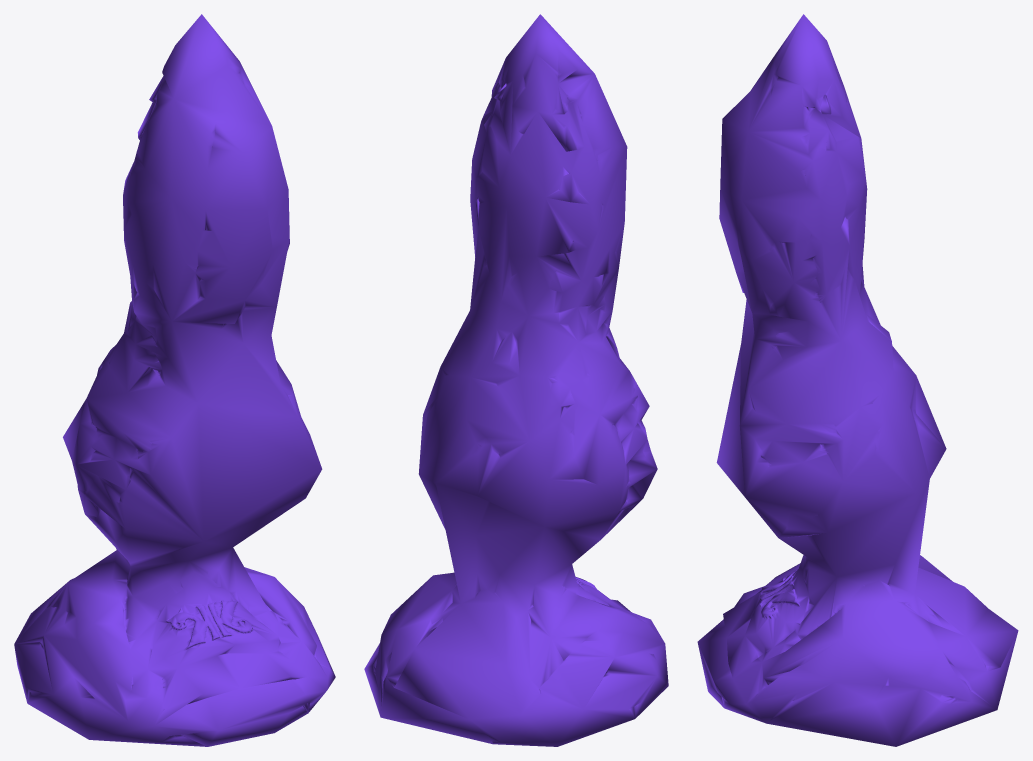
The model's file is medium-flat-ar.glb.
The picture shows the model from 3 angles, left to right: view 1: azimuth 30°, elevation 25°; view 2: azimuth 150°, elevation 25°; view 3: azimuth 270°, elevation 25°; orthographic projection. The views are drawn at different scales.
Bounding box in the file's own units: 0.0907 × 0.2174 × 0.0947.
